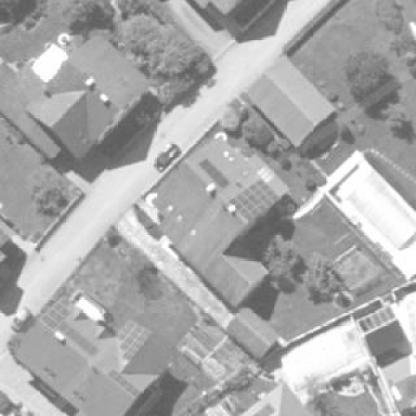solar-pv-panel: (227, 179, 280, 222), (116, 320, 153, 362), (58, 322, 98, 356), (356, 305, 397, 336), (40, 295, 71, 329), (197, 159, 229, 189), (107, 369, 140, 398), (252, 404, 276, 416)
